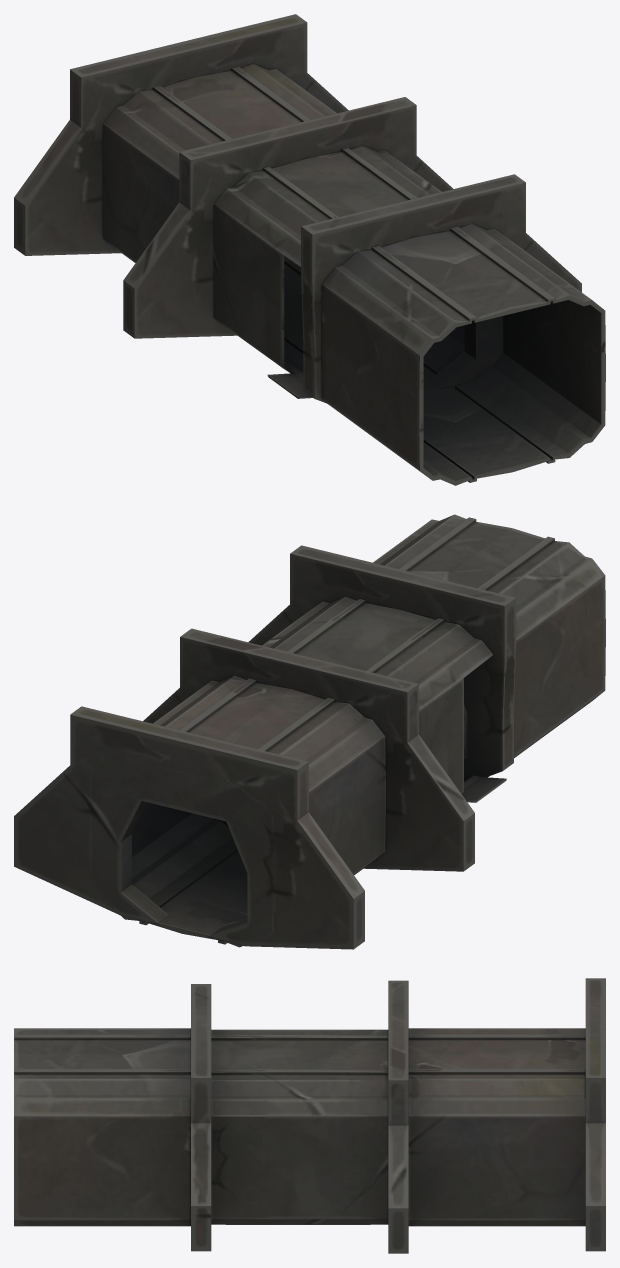
The model's file is Corridor.fbx.
3 renders of one model, top to bottom at view 1: azimuth 30°, elevation 25°; view 2: azimuth 150°, elevation 25°; view 3: azimuth 270°, elevation 25°, orthographic. The views are drawn at different scales.
Visible parts, largest first — view 1: pPlane14; view 2: pPlane14; view 3: pPlane14.
Boxes of the visible parts, x1,y1,x2,y2 form: pPlane14: (14, 14, 605, 485); pPlane14: (14, 514, 605, 949); pPlane14: (14, 978, 605, 1253).
Bounding box in the file's own units: 8.92 × 4.82 × 15.
